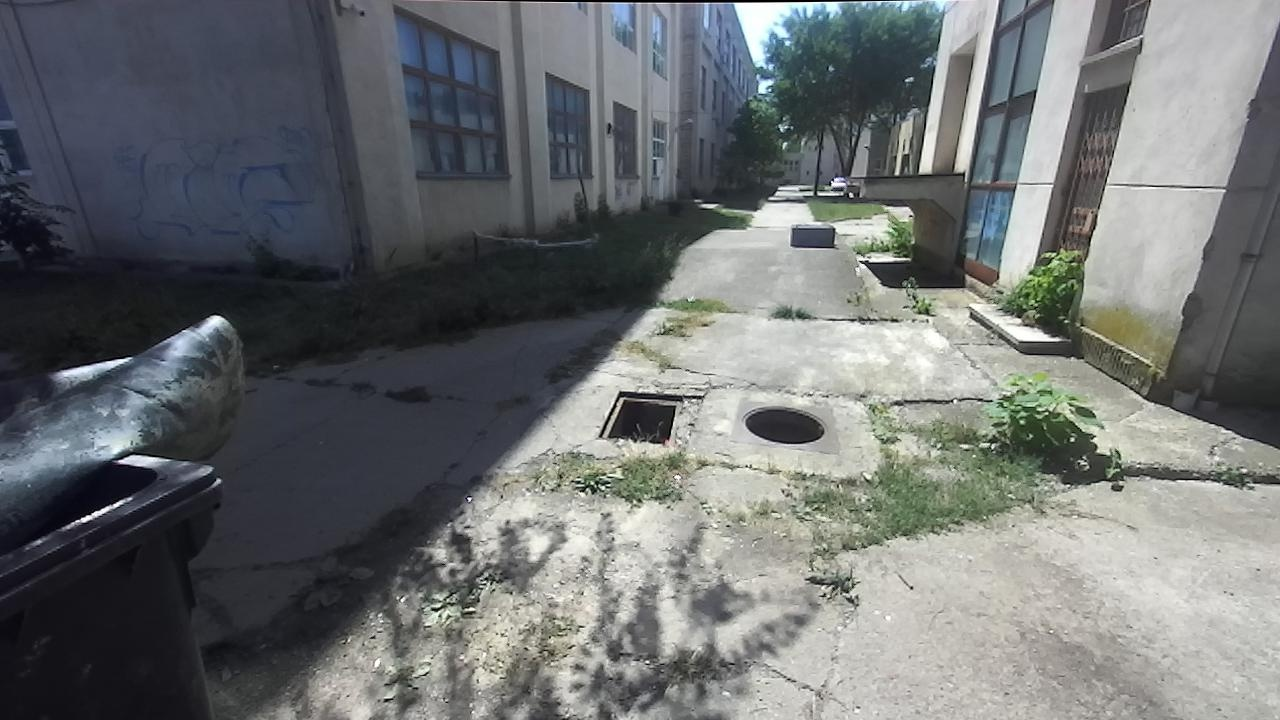drain: (592, 388, 685, 446), (733, 399, 832, 449)
